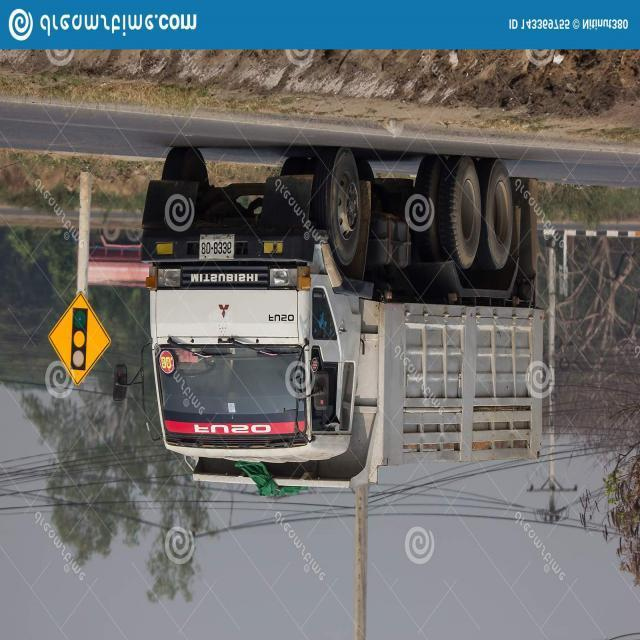truck: (112, 150, 546, 502)
